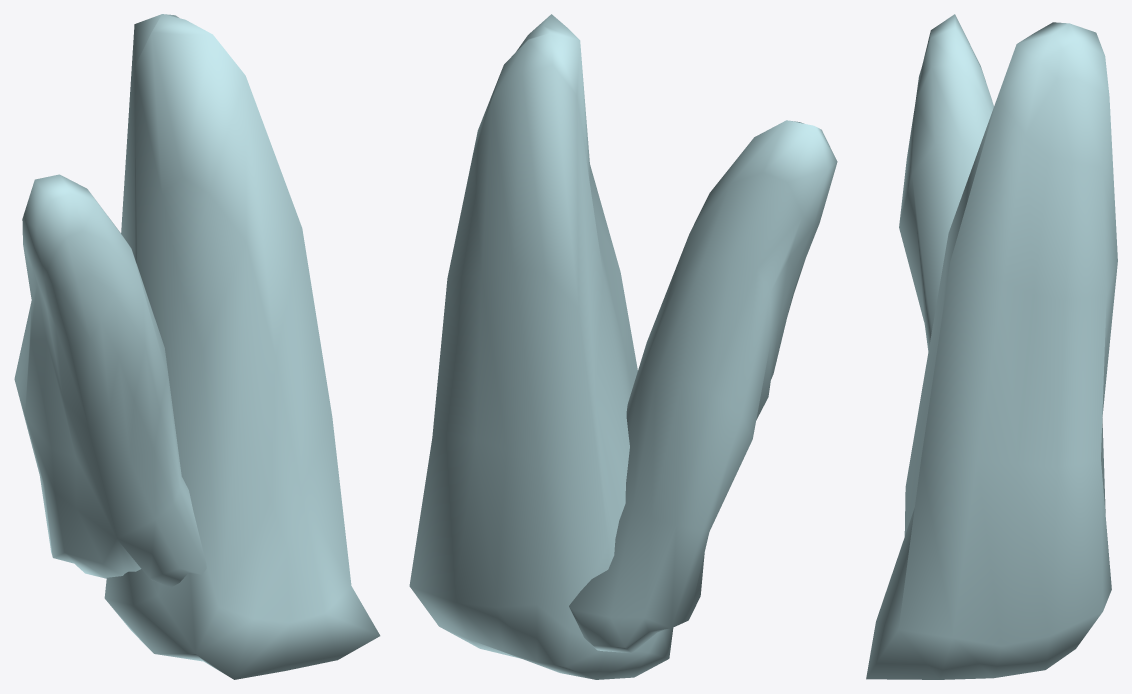
Rendered from blender env assets med ice spike 2.fbx.
The picture shows the model from 3 angles, left to right: view 1: azimuth 30°, elevation 25°; view 2: azimuth 150°, elevation 25°; view 3: azimuth 270°, elevation 25°; orthographic projection. The views are drawn at different scales.
Parts seen in each view (by area): view 1: rock.046; view 2: rock.046; view 3: rock.046.
Part boxes in pixels (x1,y1,x2,y2): rock.046: [14, 14, 380, 679]; rock.046: [409, 14, 837, 679]; rock.046: [866, 14, 1117, 679].
Bounding box in the file's own units: 133 × 229 × 84.19.
